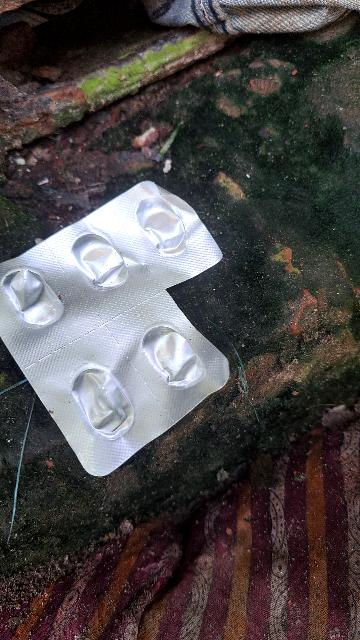medicine: (0, 175, 252, 487)
